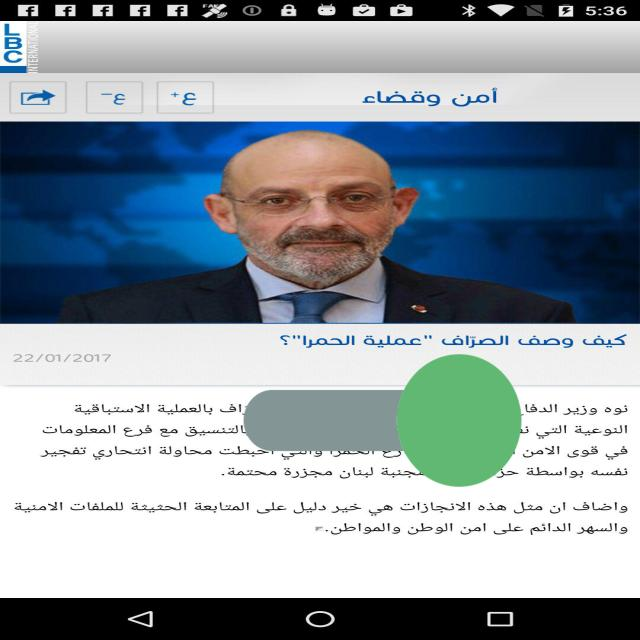social proof: (244, 273, 522, 568)
